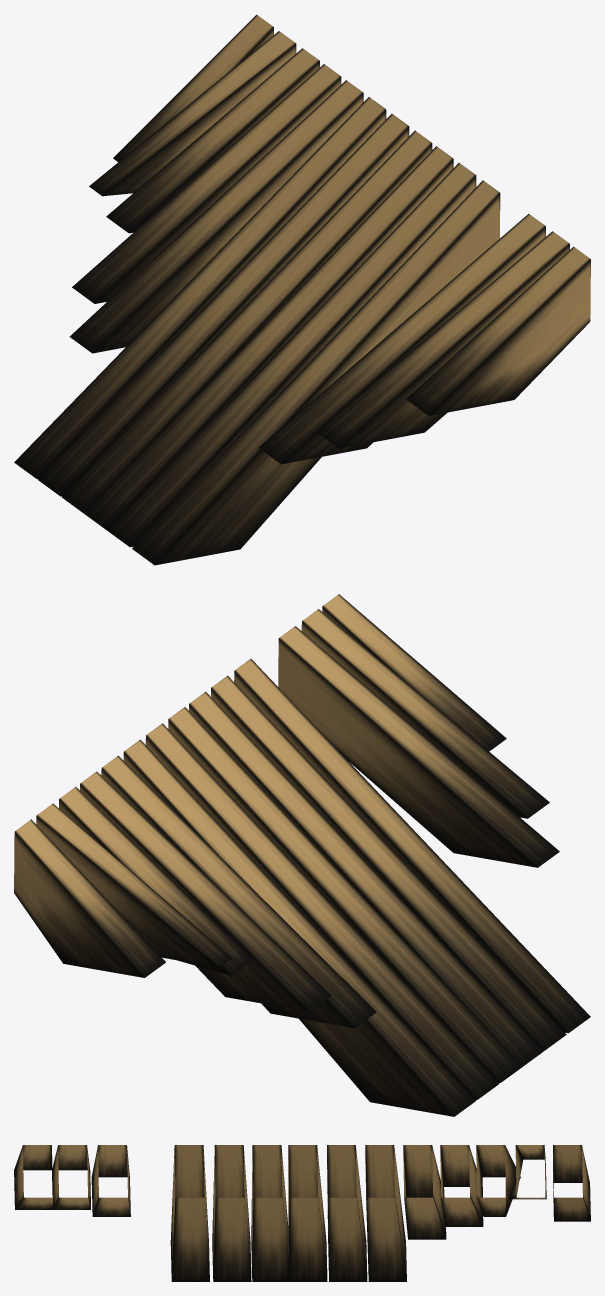
3 renders of one model, top to bottom at view 1: azimuth 30°, elevation 25°; view 2: azimuth 150°, elevation 25°; view 3: azimuth 270°, elevation 25°, orthographic. The views are drawn at different scales.
Parts seen in each view (by area): view 1: f17; view 2: f17; view 3: f17.
Boxes of the visible parts, box(x1,y1,x2,y2) form: f17: box(14, 14, 590, 565); f17: box(14, 594, 590, 1116); f17: box(14, 1145, 590, 1281).
Bounding box in the file's own units: 160 × 128 × 276.
